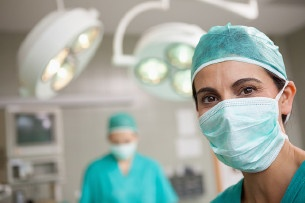Mask: (193, 77, 287, 171)
